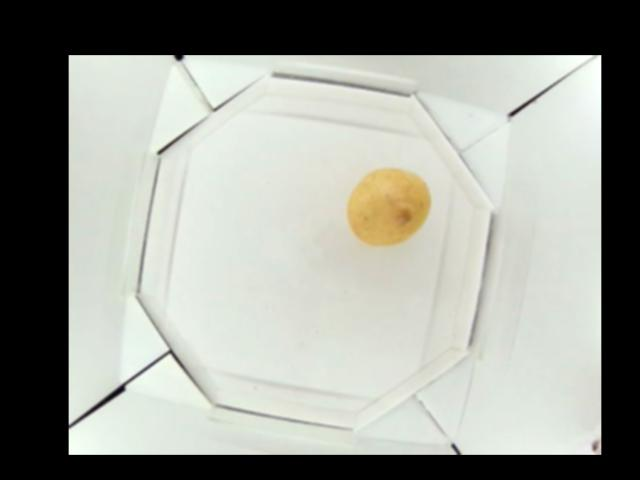Potato: (349, 168, 434, 242)
